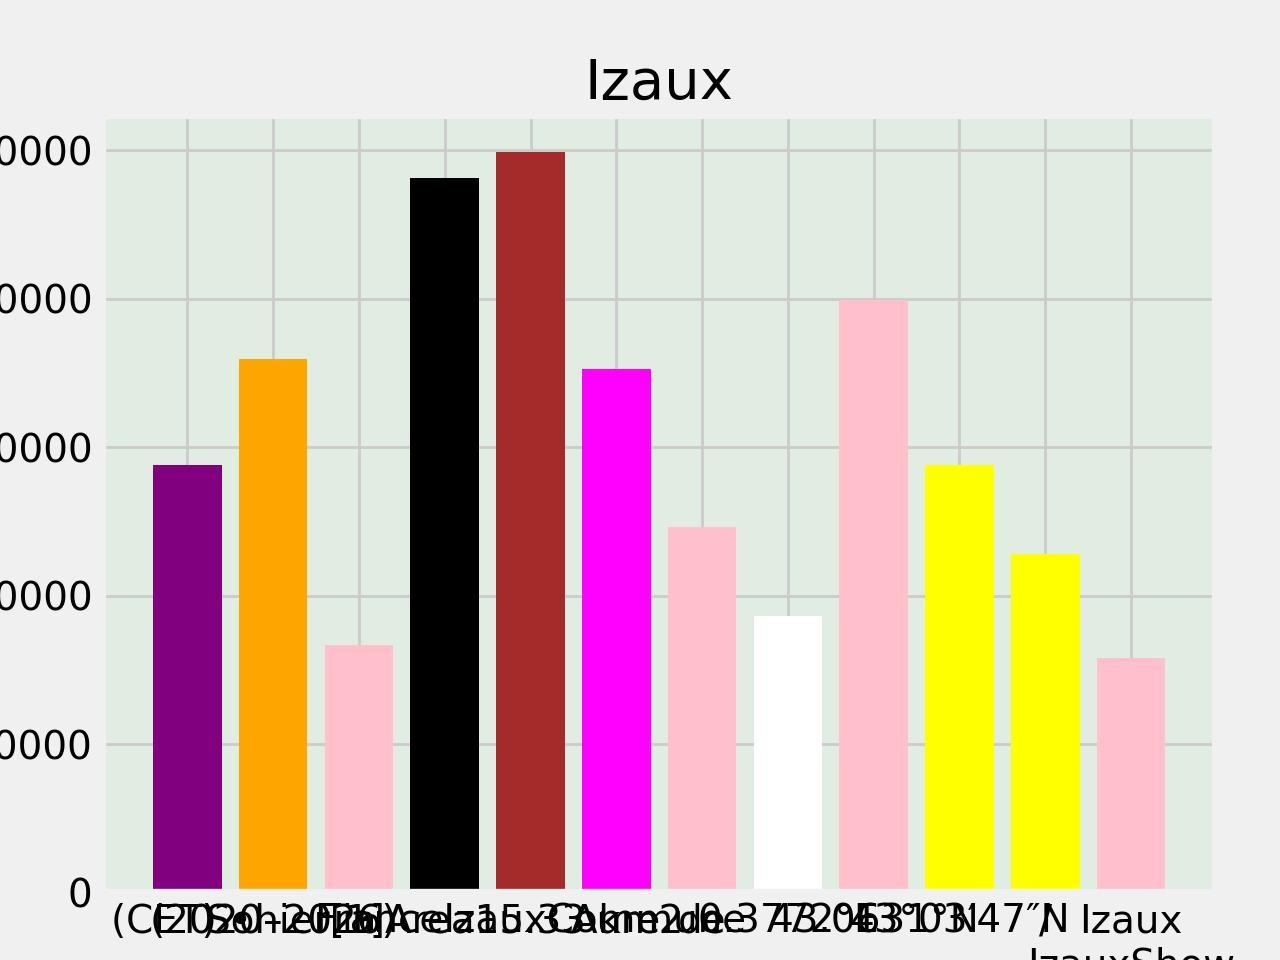axis: (0, 135, 93, 916)
rectangle: (496, 152, 565, 893), (410, 178, 479, 892), (839, 299, 908, 892), (239, 359, 307, 893), (582, 369, 651, 893), (925, 465, 994, 893), (153, 465, 222, 892), (667, 527, 737, 893), (1011, 554, 1080, 893), (754, 616, 822, 892), (325, 645, 393, 892), (1097, 658, 1165, 893)
